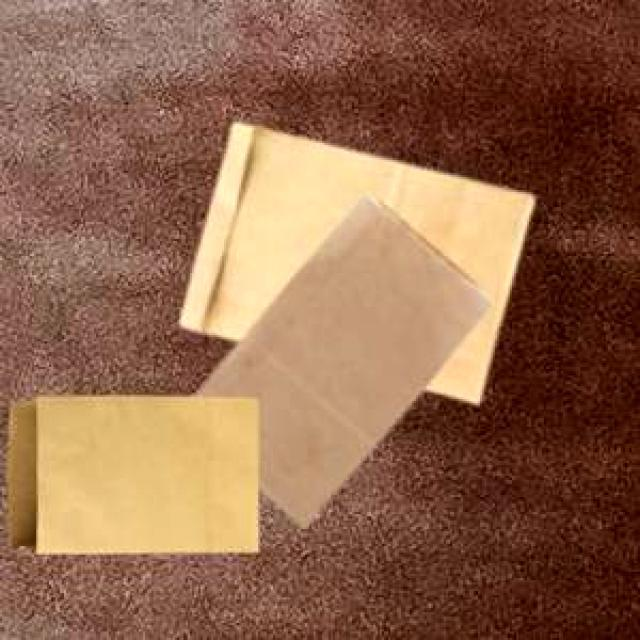Paper_Bag: (178, 120, 530, 400), (193, 193, 488, 524), (6, 394, 254, 550)
